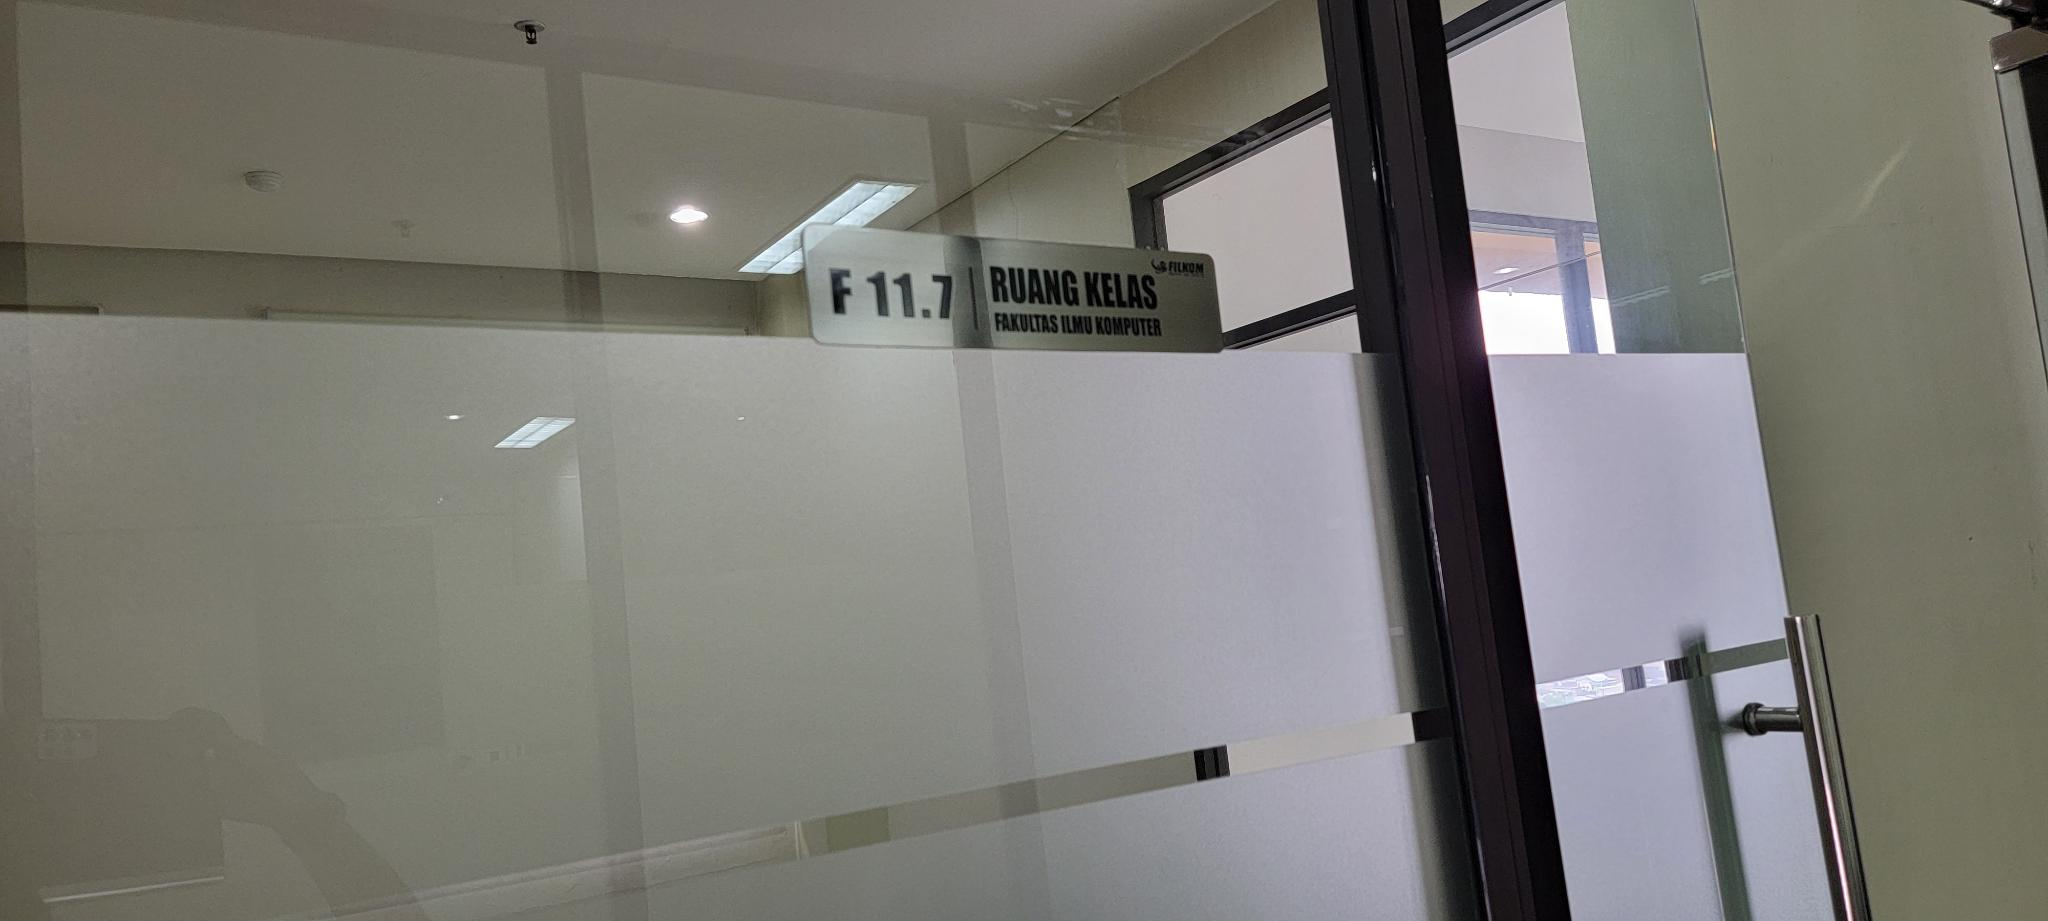plate: (799, 222, 1225, 353)
